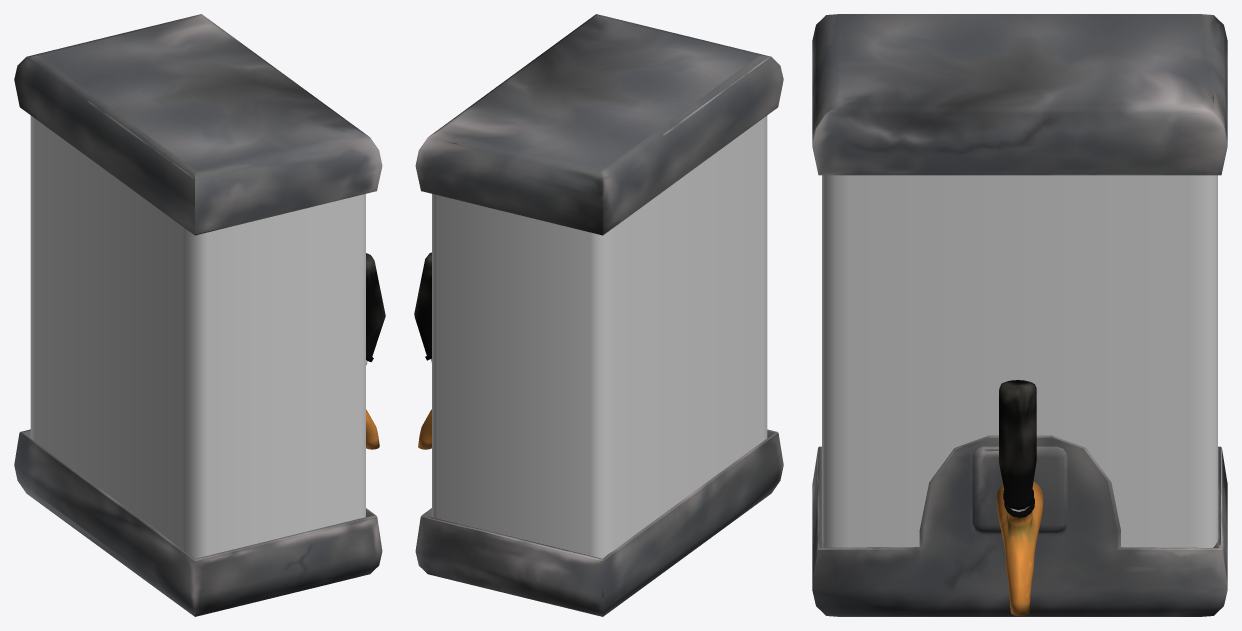
File: Goob_Machine.fbx
The picture shows the model from 3 angles, left to right: view 1: azimuth 30°, elevation 25°; view 2: azimuth 150°, elevation 25°; view 3: azimuth 270°, elevation 25°; orthographic projection. The views are drawn at different scales.
Parts seen in each view (by area): view 1: Slob Glass, Slob maschine Metal, Tap Handle; view 2: Slob Glass, Slob maschine Metal, Tap Handle; view 3: Slob Glass, Slob maschine Metal, Tap Handle, Tap.
Part boxes in pixels (bbox=[...]): Slob Glass: bbox=[30, 115, 365, 558]; Slob maschine Metal: bbox=[14, 14, 382, 616]; Tap Handle: bbox=[366, 253, 385, 361]; Slob Glass: bbox=[432, 115, 767, 558]; Slob maschine Metal: bbox=[415, 14, 783, 616]; Tap Handle: bbox=[414, 252, 431, 360]; Slob Glass: bbox=[822, 175, 1217, 547]; Slob maschine Metal: bbox=[812, 14, 1227, 616]; Tap Handle: bbox=[999, 380, 1036, 509]; Tap: bbox=[996, 481, 1043, 616].
Size of the model in its own units: 46.63 by 71.28 by 52.46.
5 materials, 5 textured.
